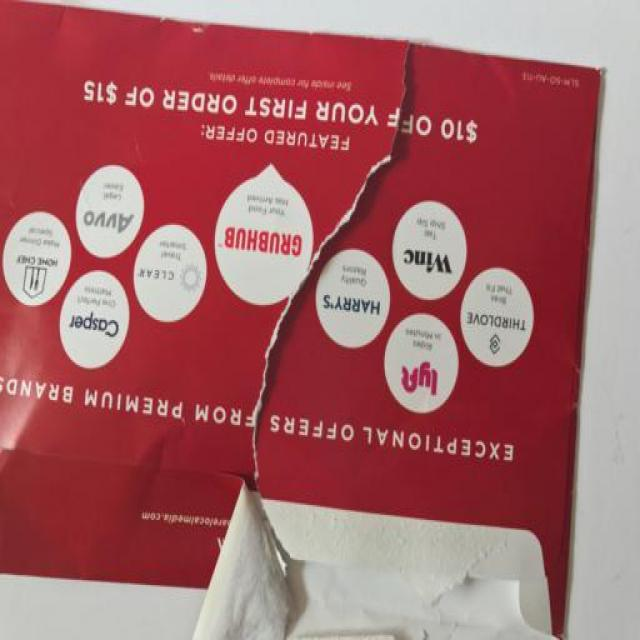paper: (3, 4, 599, 638)
